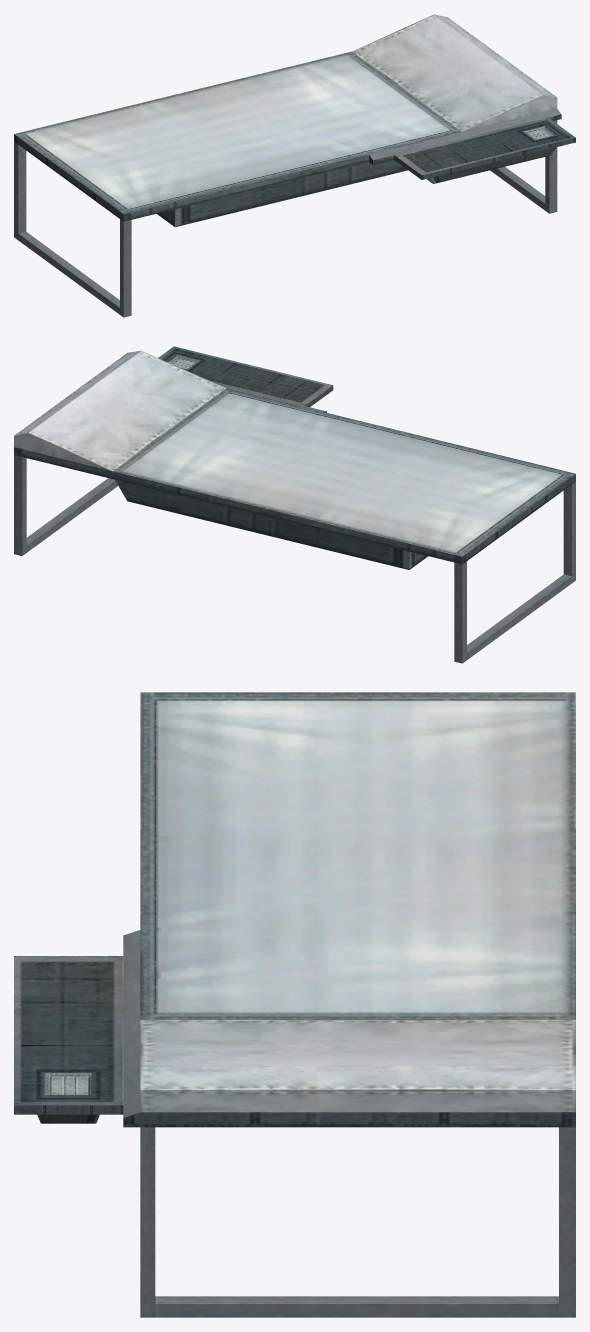
File: eqp_camping_cot_s2_l0.fbx
The picture shows the model from 3 angles, top to bottom: view 1: azimuth 30°, elevation 25°; view 2: azimuth 150°, elevation 25°; view 3: azimuth 270°, elevation 25°; orthographic projection. The views are drawn at different scales.
Parts seen in each view (by area): view 1: mesh_node; view 2: mesh_node; view 3: mesh_node.
Boxes of the visible parts, x1,y1,x2,y2 form: mesh_node: [14, 14, 575, 317]; mesh_node: [14, 346, 575, 663]; mesh_node: [14, 692, 575, 1317].
Bounding box in the file's own units: 1.95 × 0.5175 × 1.1.
1 material, 1 textured.
